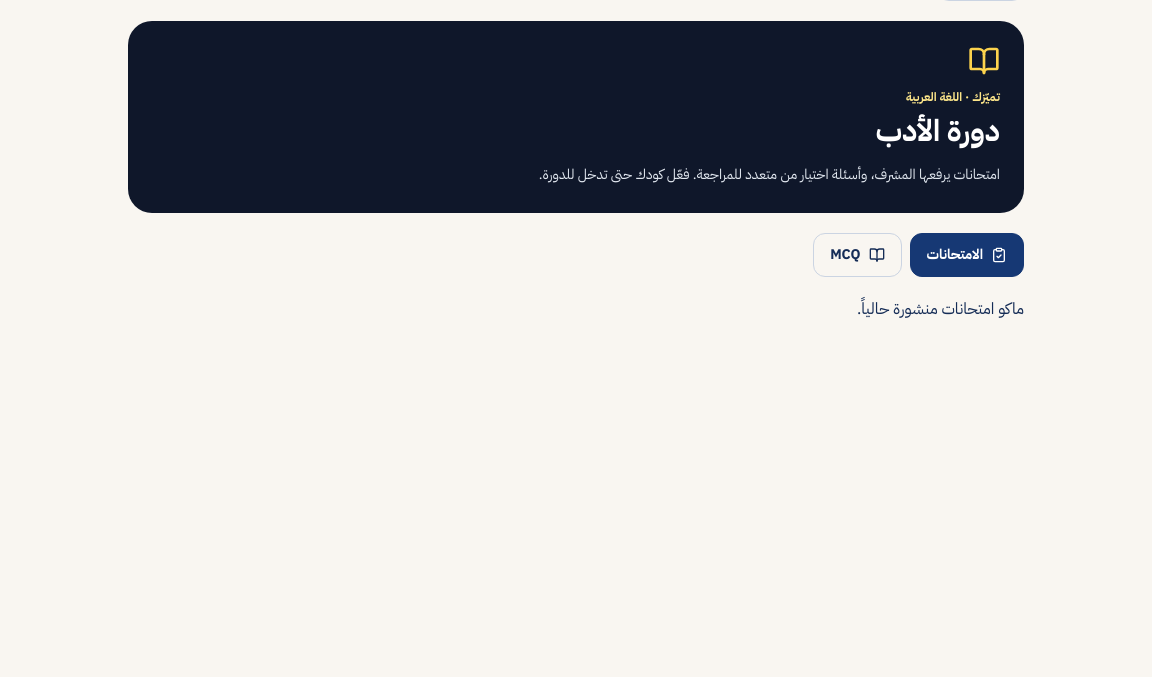
Test case: literature course › scores through the server only after all choices are selected
Click the button "MCQ" at [857, 255], box [813, 233, 902, 277]
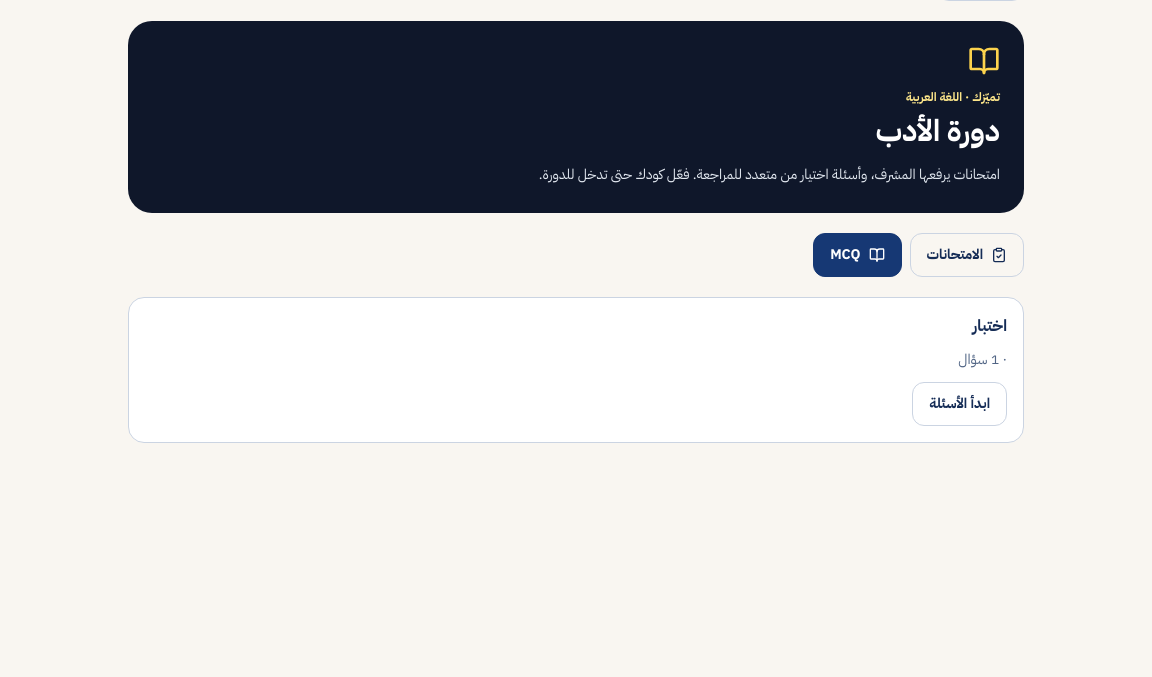
Click the button "ابدأ الأسئلة" at [960, 404], box [912, 382, 1007, 426]
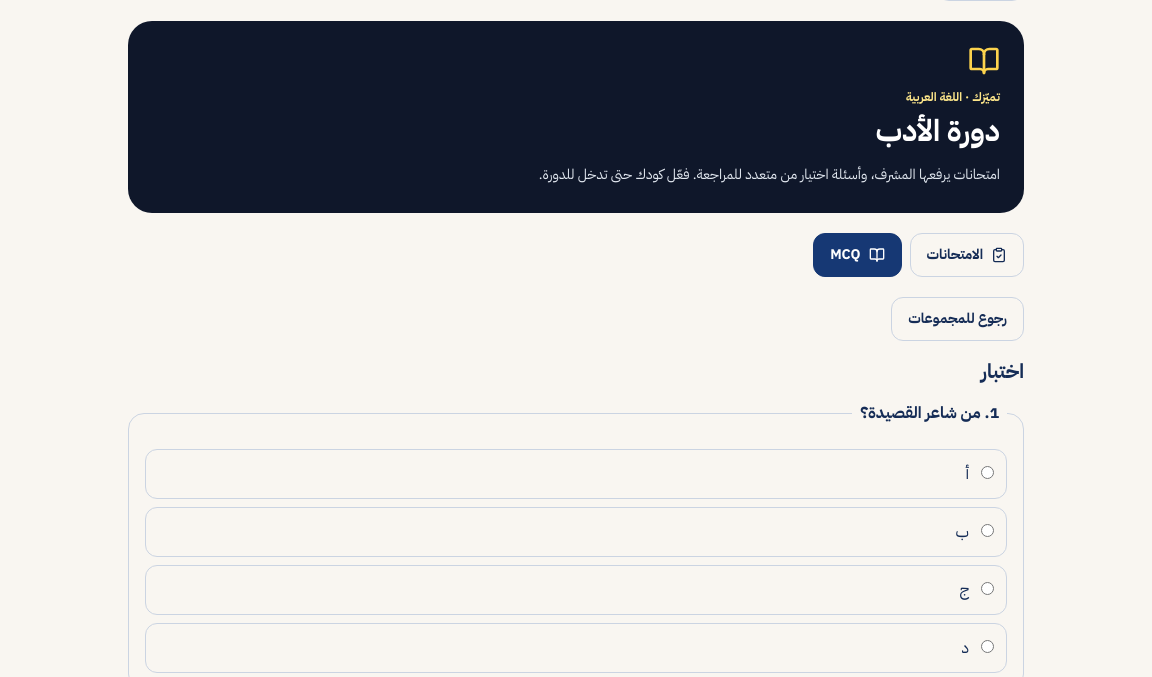
expect the text "النص ينسب القصيدة إلى ب." is not shown: met
Click the radio button labelled "ب" at [988, 530], box [981, 524, 994, 537]
(page scrolled)
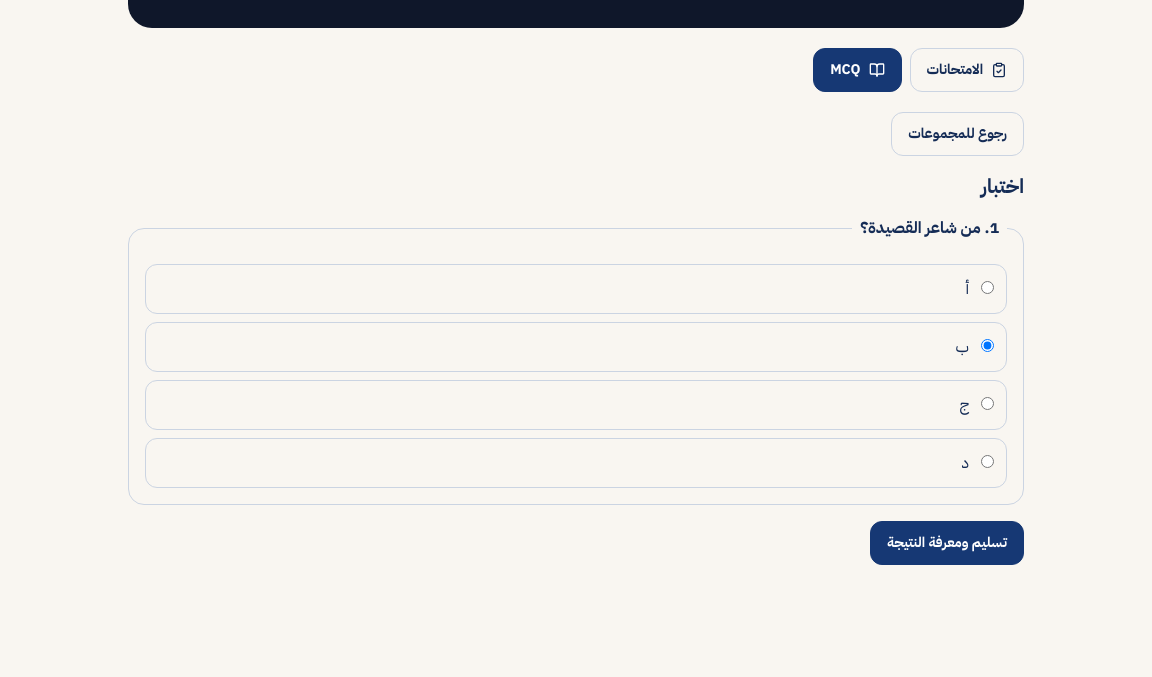
Click the button "تسليم ومعرفة النتيجة" at [947, 543], box [870, 521, 1024, 565]
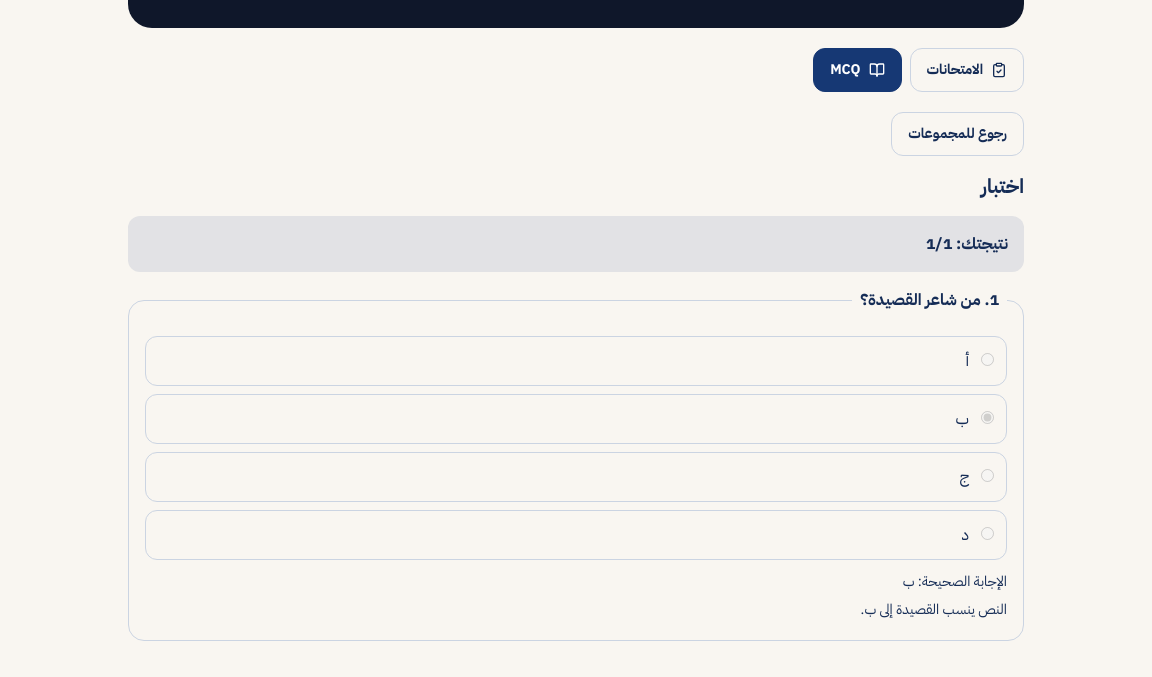
expect the text "النص ينسب القصيدة إلى ب." is shown: met, box [861, 599, 1007, 620]
